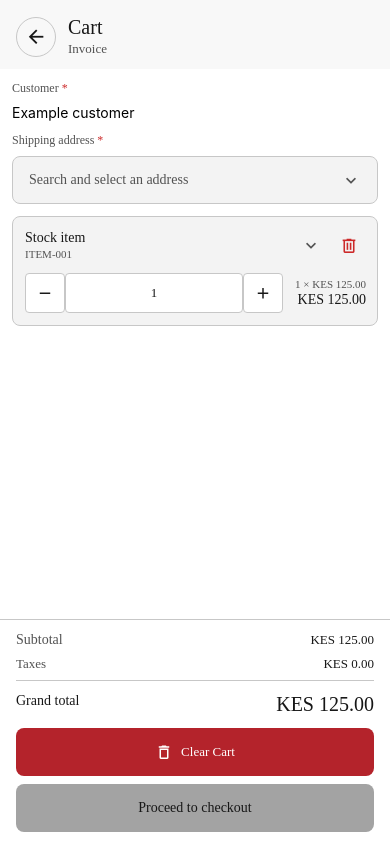
Test: PosCartScreen › offers configured units from a cart item’s details
Click the button with aria-label "View details for Stock item": click(55, 238) [25,230,321,260]
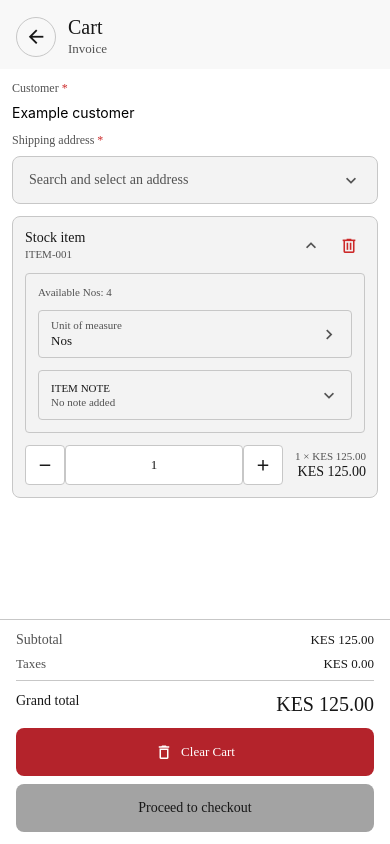
Now the element named "Change unit for Stock item" is shown, box [38,310,352,358]
Now the text "Unit of measure" is shown, box [51,319,122,331]
